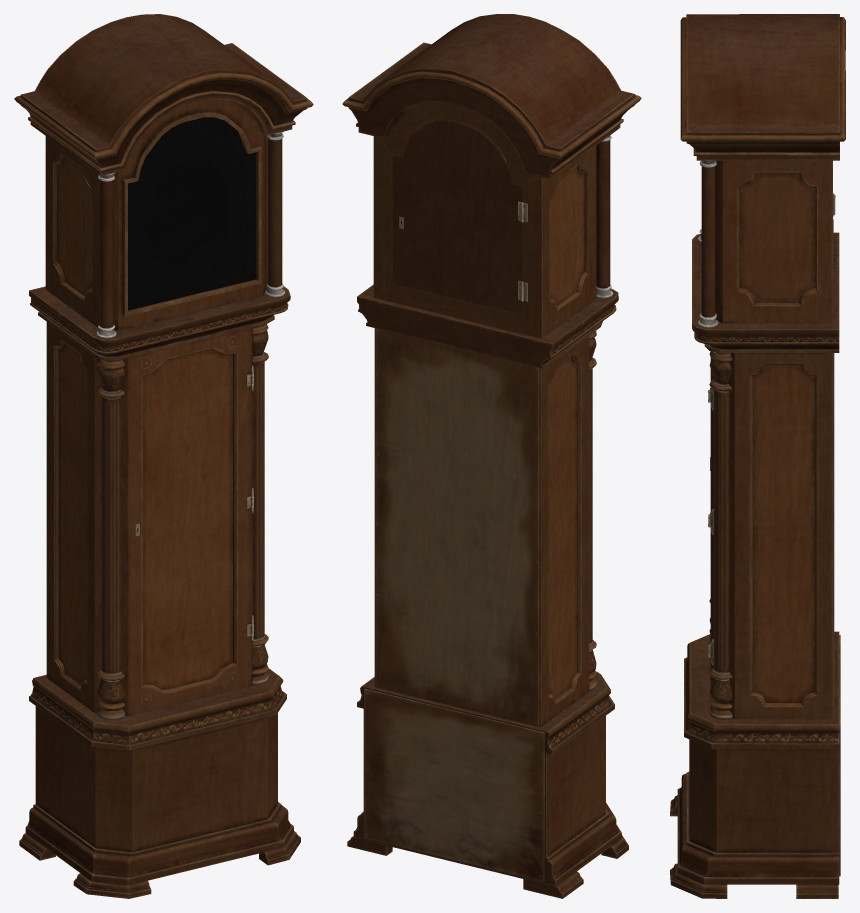
The model's file is vintage_grandfather_clock_01_lod1.glb.
3 views of the same model, side by side, from view 1: azimuth 30°, elevation 25°; view 2: azimuth 150°, elevation 25°; view 3: azimuth 270°, elevation 25° (orthographic). The views are drawn at different scales.
Visible parts, largest first — view 1: vintage_grandfather_clock_01_body; view 2: vintage_grandfather_clock_01_body; view 3: vintage_grandfather_clock_01_body.
Boxes of the visible parts, x1=… form: vintage_grandfather_clock_01_body: x1=14, y1=14, x2=313, y2=898; vintage_grandfather_clock_01_body: x1=342, y1=14, x2=641, y2=898; vintage_grandfather_clock_01_body: x1=670, y1=14, x2=845, y2=898.
Size of the model in its own units: 0.6256 by 2.19 by 0.4266.
Materials: 2 (2 with a texture image).
